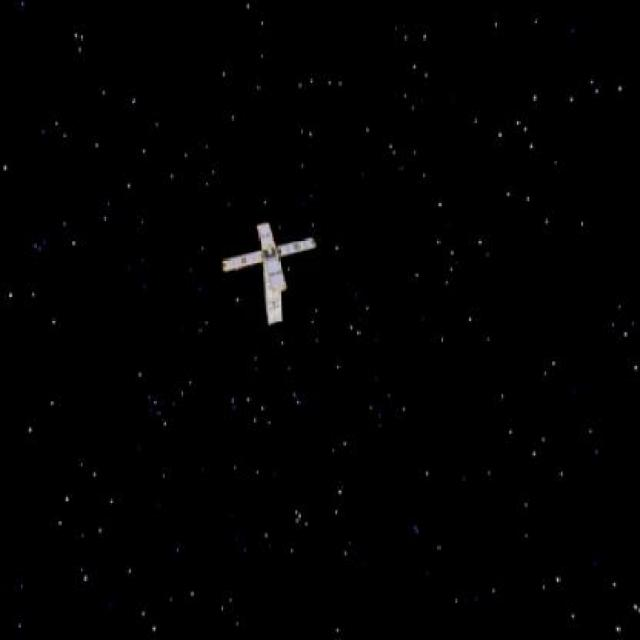satellite: (221, 208, 335, 334)
